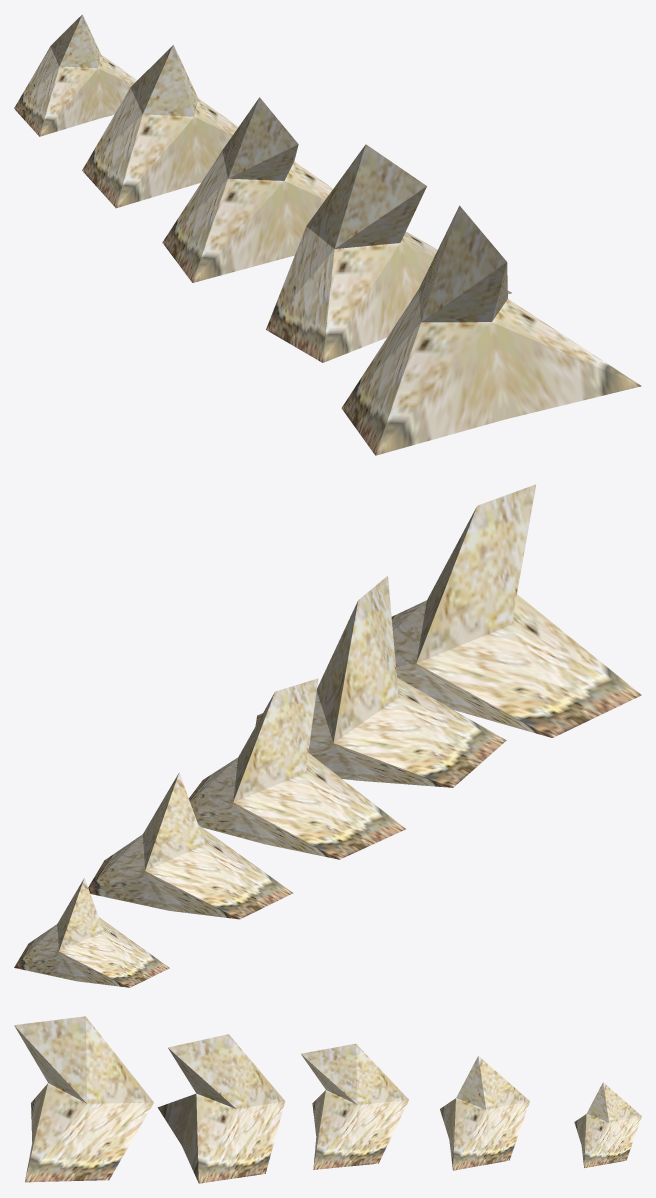
The model's file is poi_tato_skel_grtr_krayt_spine_s03_l1.fbx.
3 renders of one model, top to bottom at view 1: azimuth 30°, elevation 25°; view 2: azimuth 150°, elevation 25°; view 3: azimuth 270°, elevation 25°, orthographic. The views are drawn at different scales.
Parts seen in each view (by area): view 1: mesh_node; view 2: mesh_node; view 3: mesh_node.
Part boxes in pixels (x1,y1,x2,y2): mesh_node: [14, 14, 641, 455]; mesh_node: [14, 484, 641, 987]; mesh_node: [14, 1016, 641, 1183].
Size of the model in its own units: 1.5 by 1.12 by 4.65.
1 material, 1 textured.
